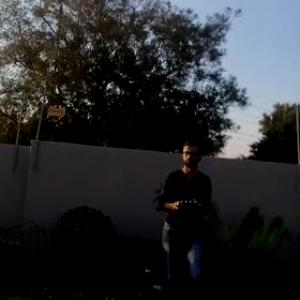follow: (152, 135, 219, 299)
